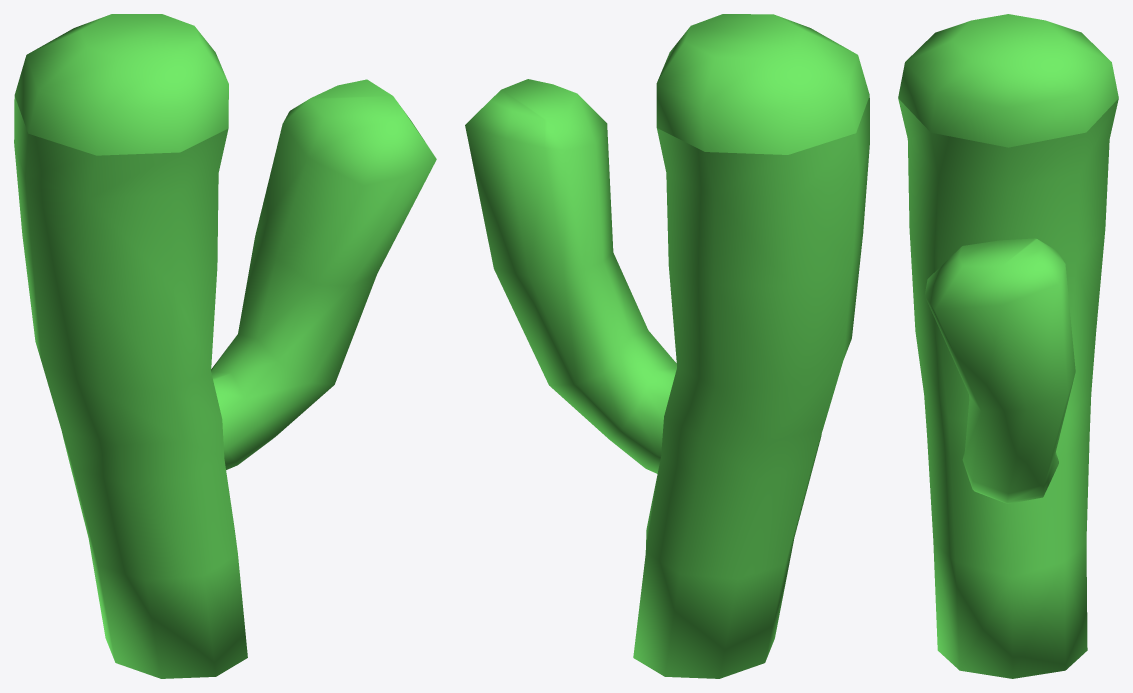
Rendered from Cactus_single.fbx.
3 renders of one model, left to right at view 1: azimuth 30°, elevation 25°; view 2: azimuth 150°, elevation 25°; view 3: azimuth 270°, elevation 25°, orthographic. The views are drawn at different scales.
Visible parts, largest first — view 1: Cactus_single; view 2: Cactus_single; view 3: Cactus_single.
Boxes of the visible parts, x1,y1,x2,y2 form: Cactus_single: (14,14,436,678); Cactus_single: (465,14,869,678); Cactus_single: (898,14,1118,678).
Bounding box in the file's own units: 137 × 213 × 71.81.
